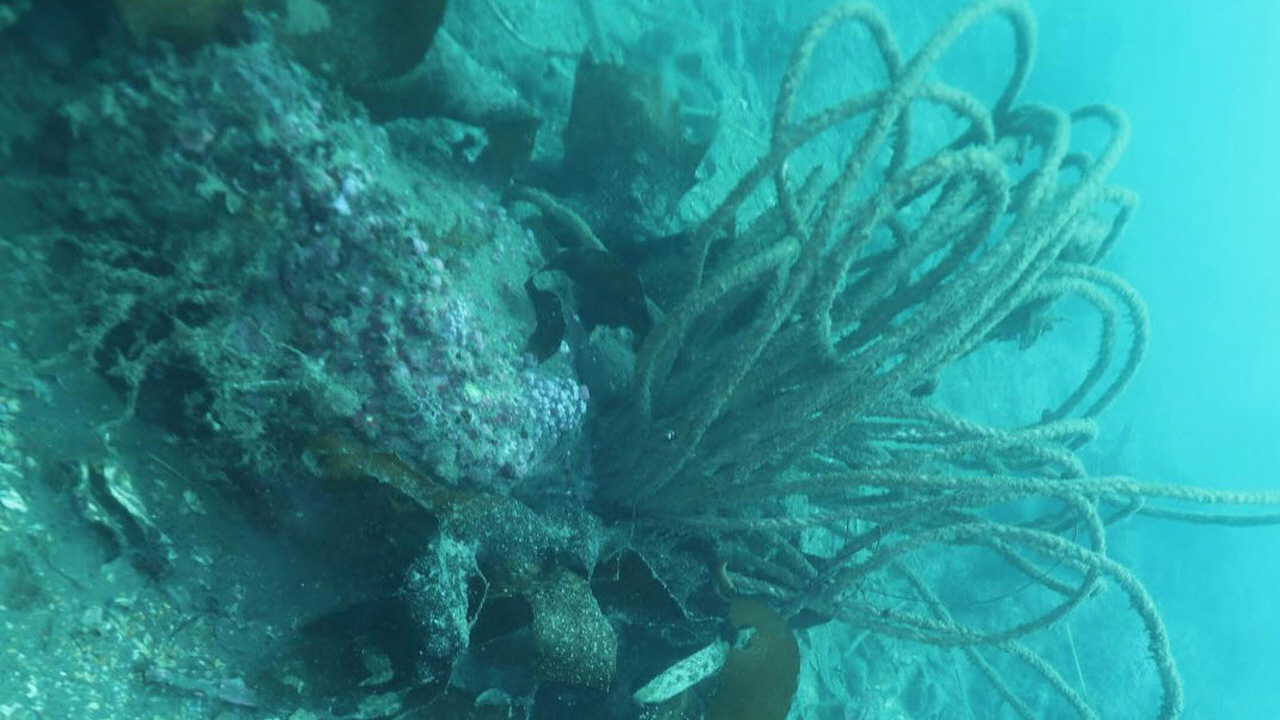bundle of ropes: (591, 0, 1280, 720)
